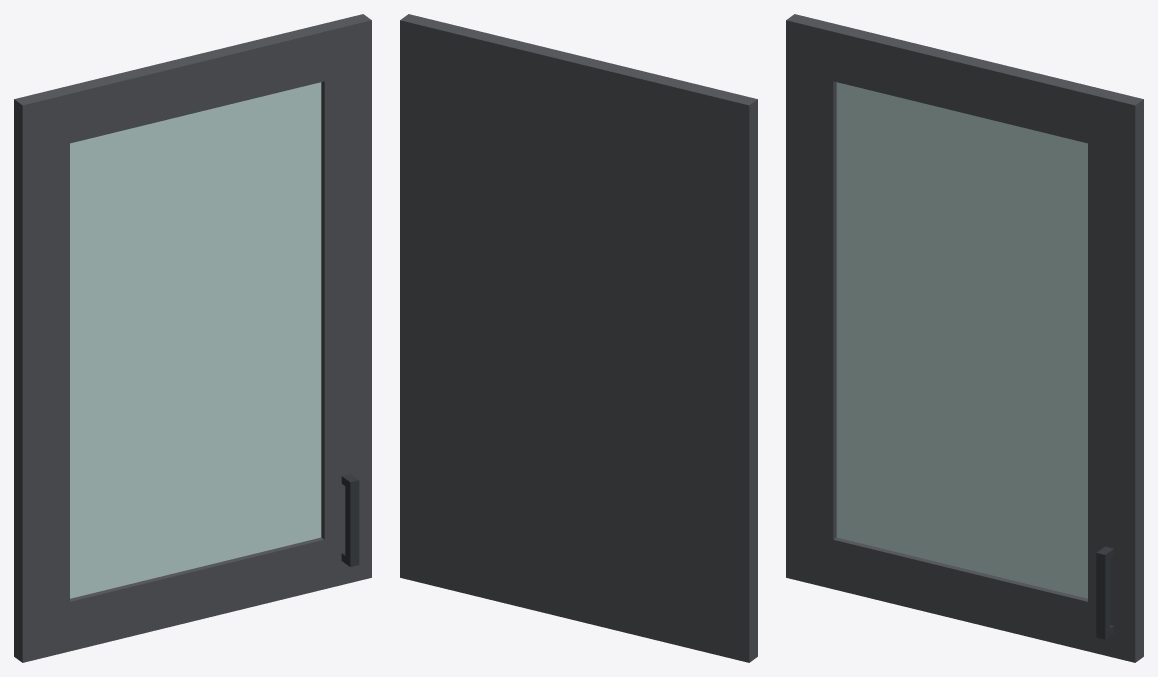
Rendered from BathroomDoor_C3_05.fbx.
The picture shows the model from 3 angles, left to right: view 1: azimuth 30°, elevation 25°; view 2: azimuth 150°, elevation 25°; view 3: azimuth 330°, elevation 25°; orthographic projection.
Visible parts, largest first — view 1: BathroomDoor_C3_05; view 2: BathroomDoor_C3_05; view 3: BathroomDoor_C3_05.
Part boxes in pixels (x1,y1,x2,y2): BathroomDoor_C3_05: (14, 14, 371, 662); BathroomDoor_C3_05: (400, 14, 757, 662); BathroomDoor_C3_05: (786, 14, 1143, 662).
Bounding box in the file's own units: 59 × 90 × 5.03.
